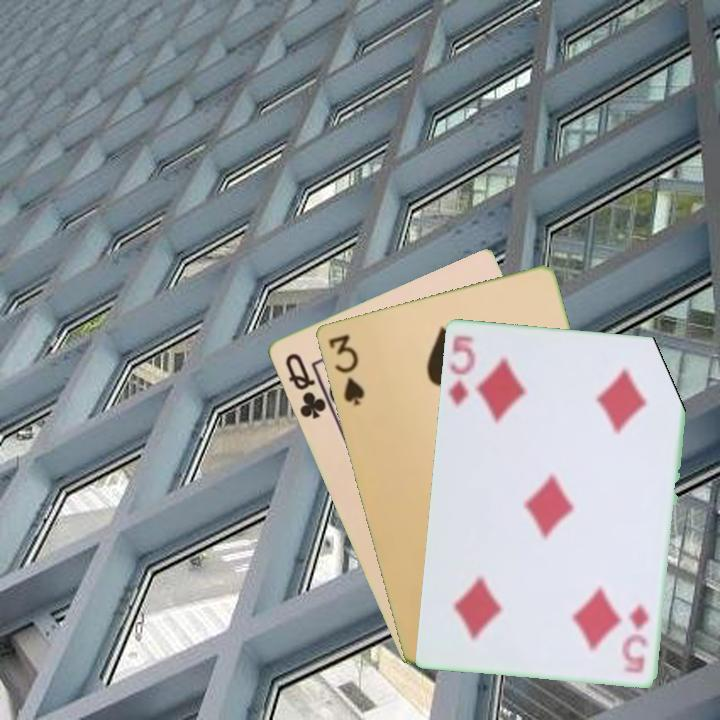3s: (324, 330, 367, 408)
5d: (444, 331, 478, 408), (623, 600, 651, 676)
Qc: (280, 349, 329, 422)
